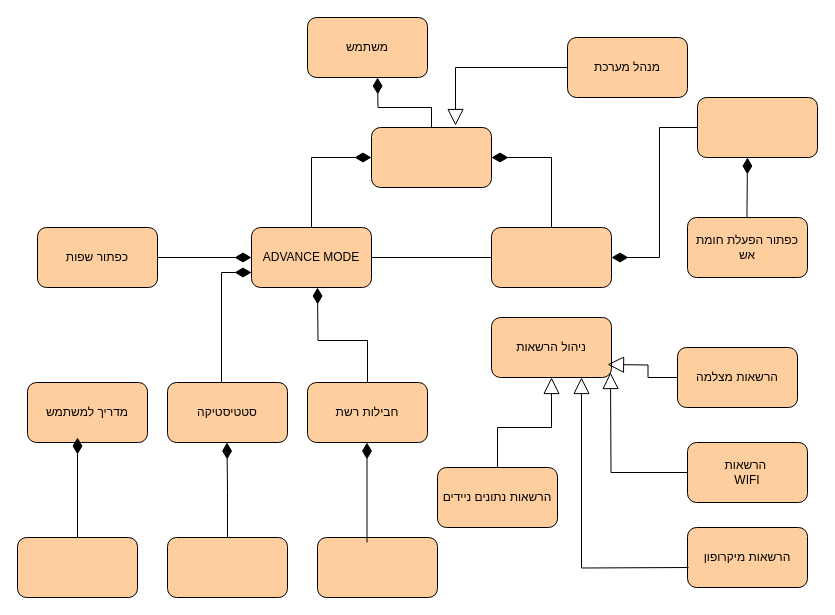
The diagram is 835 pixels wide and 615 high, and some of its shapes have lost their labels. Here are the shapes that lost their labels. From the top down, the centre of each, then its label:
At point 757,127: "חומת אש".
At point 431,157: "Cyber Wall".
At point 551,257: "USER MODE".
At point 77,567: "כפתור למדריך המשתמש".
At point 227,567: "כפתור לבדיקת סטיסטיקות שימוש של אפליקציות".
At point 377,567: "כפתור לבדיקת חבילות רשת".
